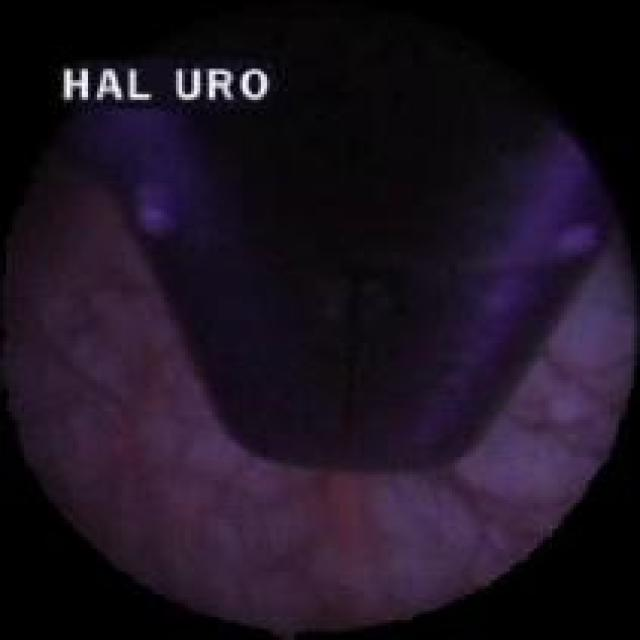color misalignment: (67, 59, 257, 105)
contrast: (35, 62, 621, 598)
instrument: (68, 46, 607, 469)
